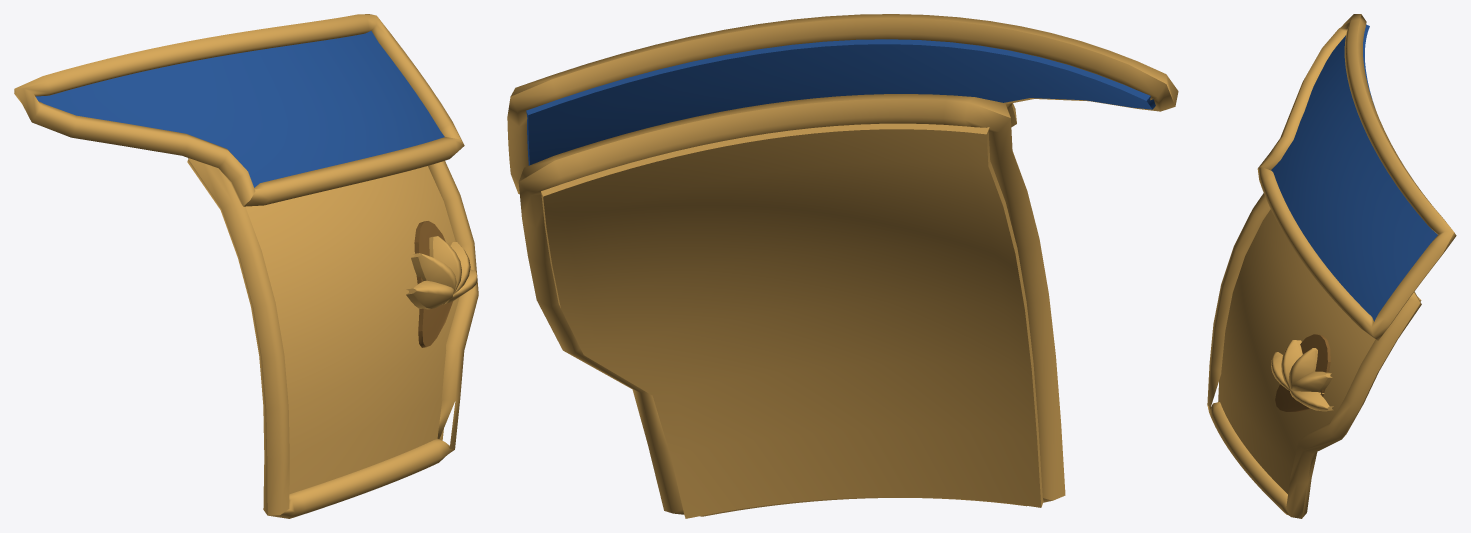
Rendered from shoulder-armour-mid.glb.
The picture shows the model from 3 angles, left to right: view 1: azimuth 30°, elevation 25°; view 2: azimuth 150°, elevation 25°; view 3: azimuth 270°, elevation 25°; orthographic projection. The views are drawn at different scales.
Parts seen in each view (by area): view 1: OriginalLeftShoulderArmour; view 2: OriginalLeftShoulderArmour; view 3: OriginalLeftShoulderArmour.
Boxes of the visible parts, x1=… form: OriginalLeftShoulderArmour: x1=14, y1=14, x2=478, y2=518; OriginalLeftShoulderArmour: x1=507, y1=14, x2=1178, y2=518; OriginalLeftShoulderArmour: x1=1207, y1=14, x2=1456, y2=518.
Bounding box in the file's own units: 0.1069 × 0.0987 × 0.0621.
